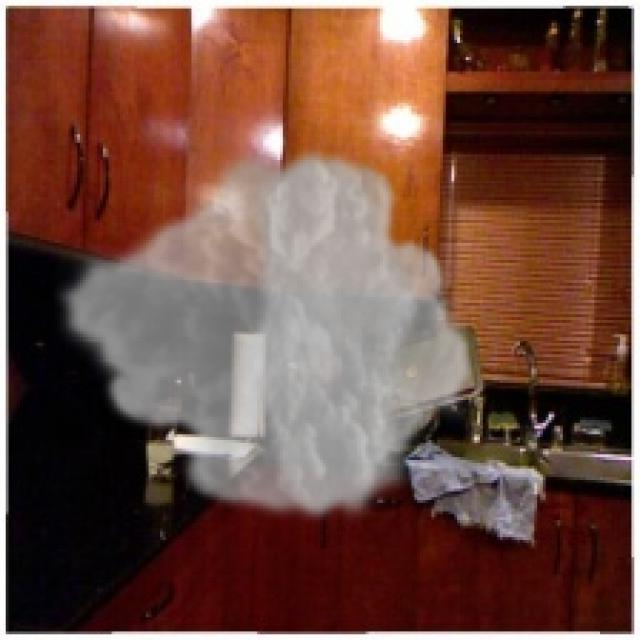smoke: (54, 140, 477, 529)
